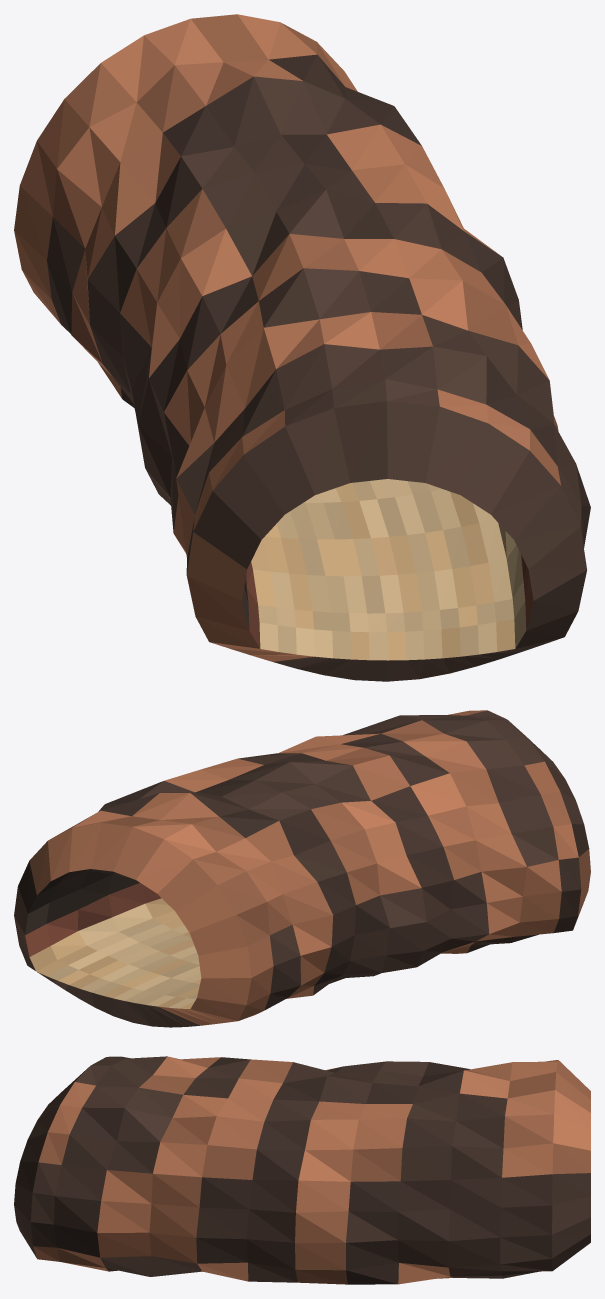
File: lava_tube_run_bend_n30.glb
3 views of the same model, one above another, from view 1: azimuth 30°, elevation 25°; view 2: azimuth 150°, elevation 25°; view 3: azimuth 270°, elevation 25° (orthographic). The views are drawn at different scales.
Parts seen in each view (by area): view 1: lava_tube_run_bend_n30; view 2: lava_tube_run_bend_n30; view 3: lava_tube_run_bend_n30.
Part boxes in pixels (x1,y1,x2,y2): lava_tube_run_bend_n30: (14, 14, 590, 681); lava_tube_run_bend_n30: (14, 710, 590, 1027); lava_tube_run_bend_n30: (14, 1056, 590, 1284).
Size of the model in its own units: 31.47 by 21.52 by 49.84.
